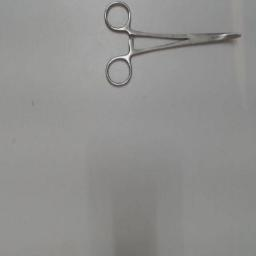Crile Artery Forceps: (102, 2, 244, 90)
